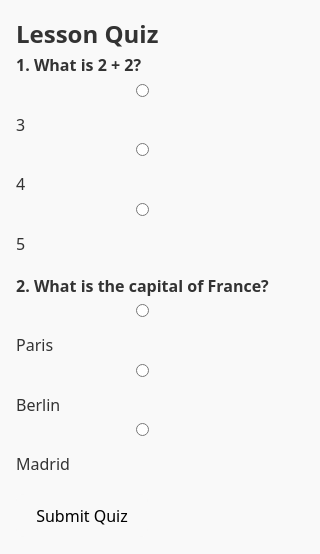
Test: renders quiz and allows user to submit answers
This screenshot has width=320, height=554.
expect the heading "Lesson Quiz" is shown: met, box [16,17,158,50]
expect the text "1. What is 2 + 2?" is shown: met, box [16,54,141,76]
What coordinates should you click on to do the following:
click the radio button labelled "4"
I would click on:
 (142, 150)
Its box is [16,143,269,156].
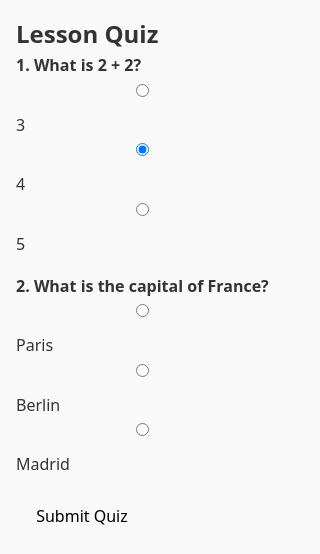
What coordinates should you click on to do the following:
click the radio button labelled "Paris"
I would click on:
 (142, 311)
Its box is [16,304,269,317].
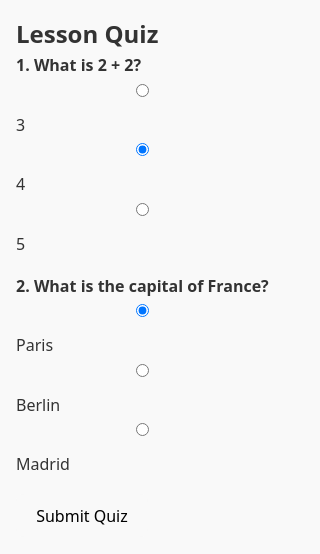
What coordinates should you click on to do the following:
click the button "Submit Quiz"
I would click on:
 (82, 516)
Its box is [16,494,148,537].
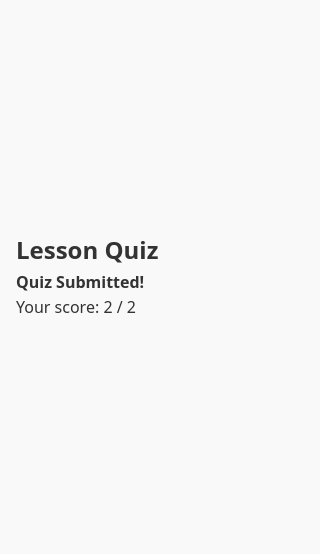
expect the text "Quiz Submitted!" is shown: met, box [16,271,144,293]
